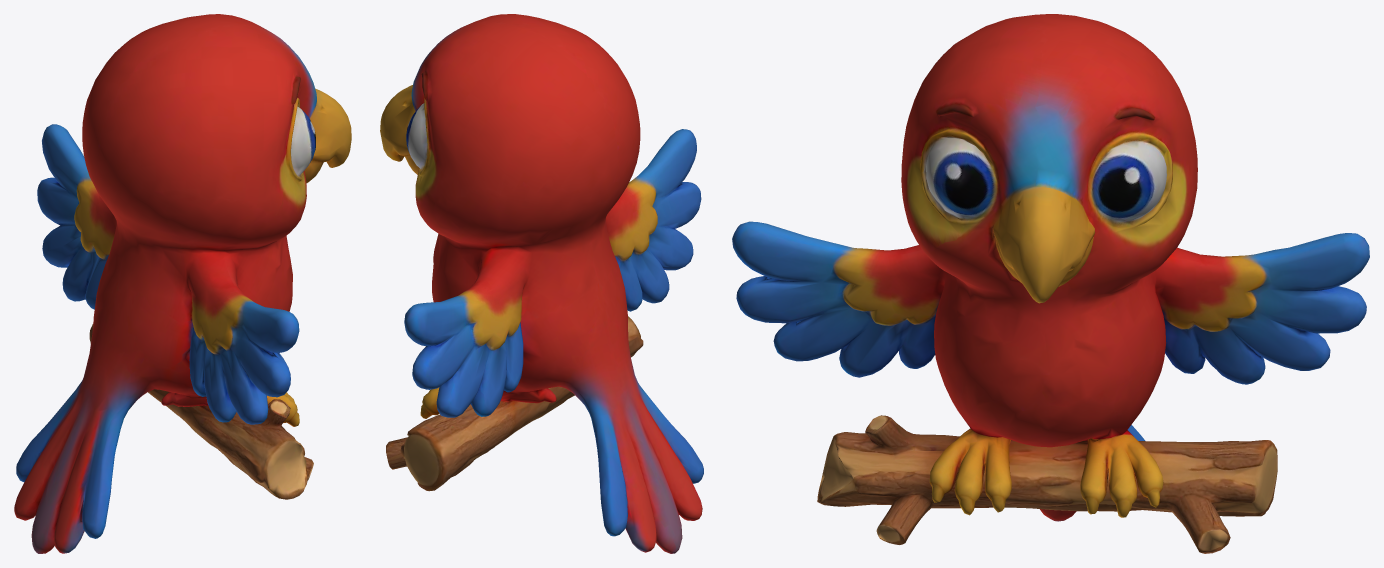
File: parrot.glb
The picture shows the model from 3 angles, left to right: view 1: azimuth 30°, elevation 25°; view 2: azimuth 150°, elevation 25°; view 3: azimuth 270°, elevation 25°; orthographic projection. The views are drawn at different scales.
Visible parts, largest first — view 1: tripo_node_63eb1742-211a-4433-b9e7-a3c67663849f; view 2: tripo_node_63eb1742-211a-4433-b9e7-a3c67663849f; view 3: tripo_node_63eb1742-211a-4433-b9e7-a3c67663849f.
Part boxes in pixels (x1,y1,x2,y2): tripo_node_63eb1742-211a-4433-b9e7-a3c67663849f: (14, 14, 351, 553); tripo_node_63eb1742-211a-4433-b9e7-a3c67663849f: (380, 14, 703, 553); tripo_node_63eb1742-211a-4433-b9e7-a3c67663849f: (732, 14, 1369, 553).
Bounding box in the file's own units: 0.1318 × 0.2 × 0.1967.
Materials: 1 (1 with a texture image).
